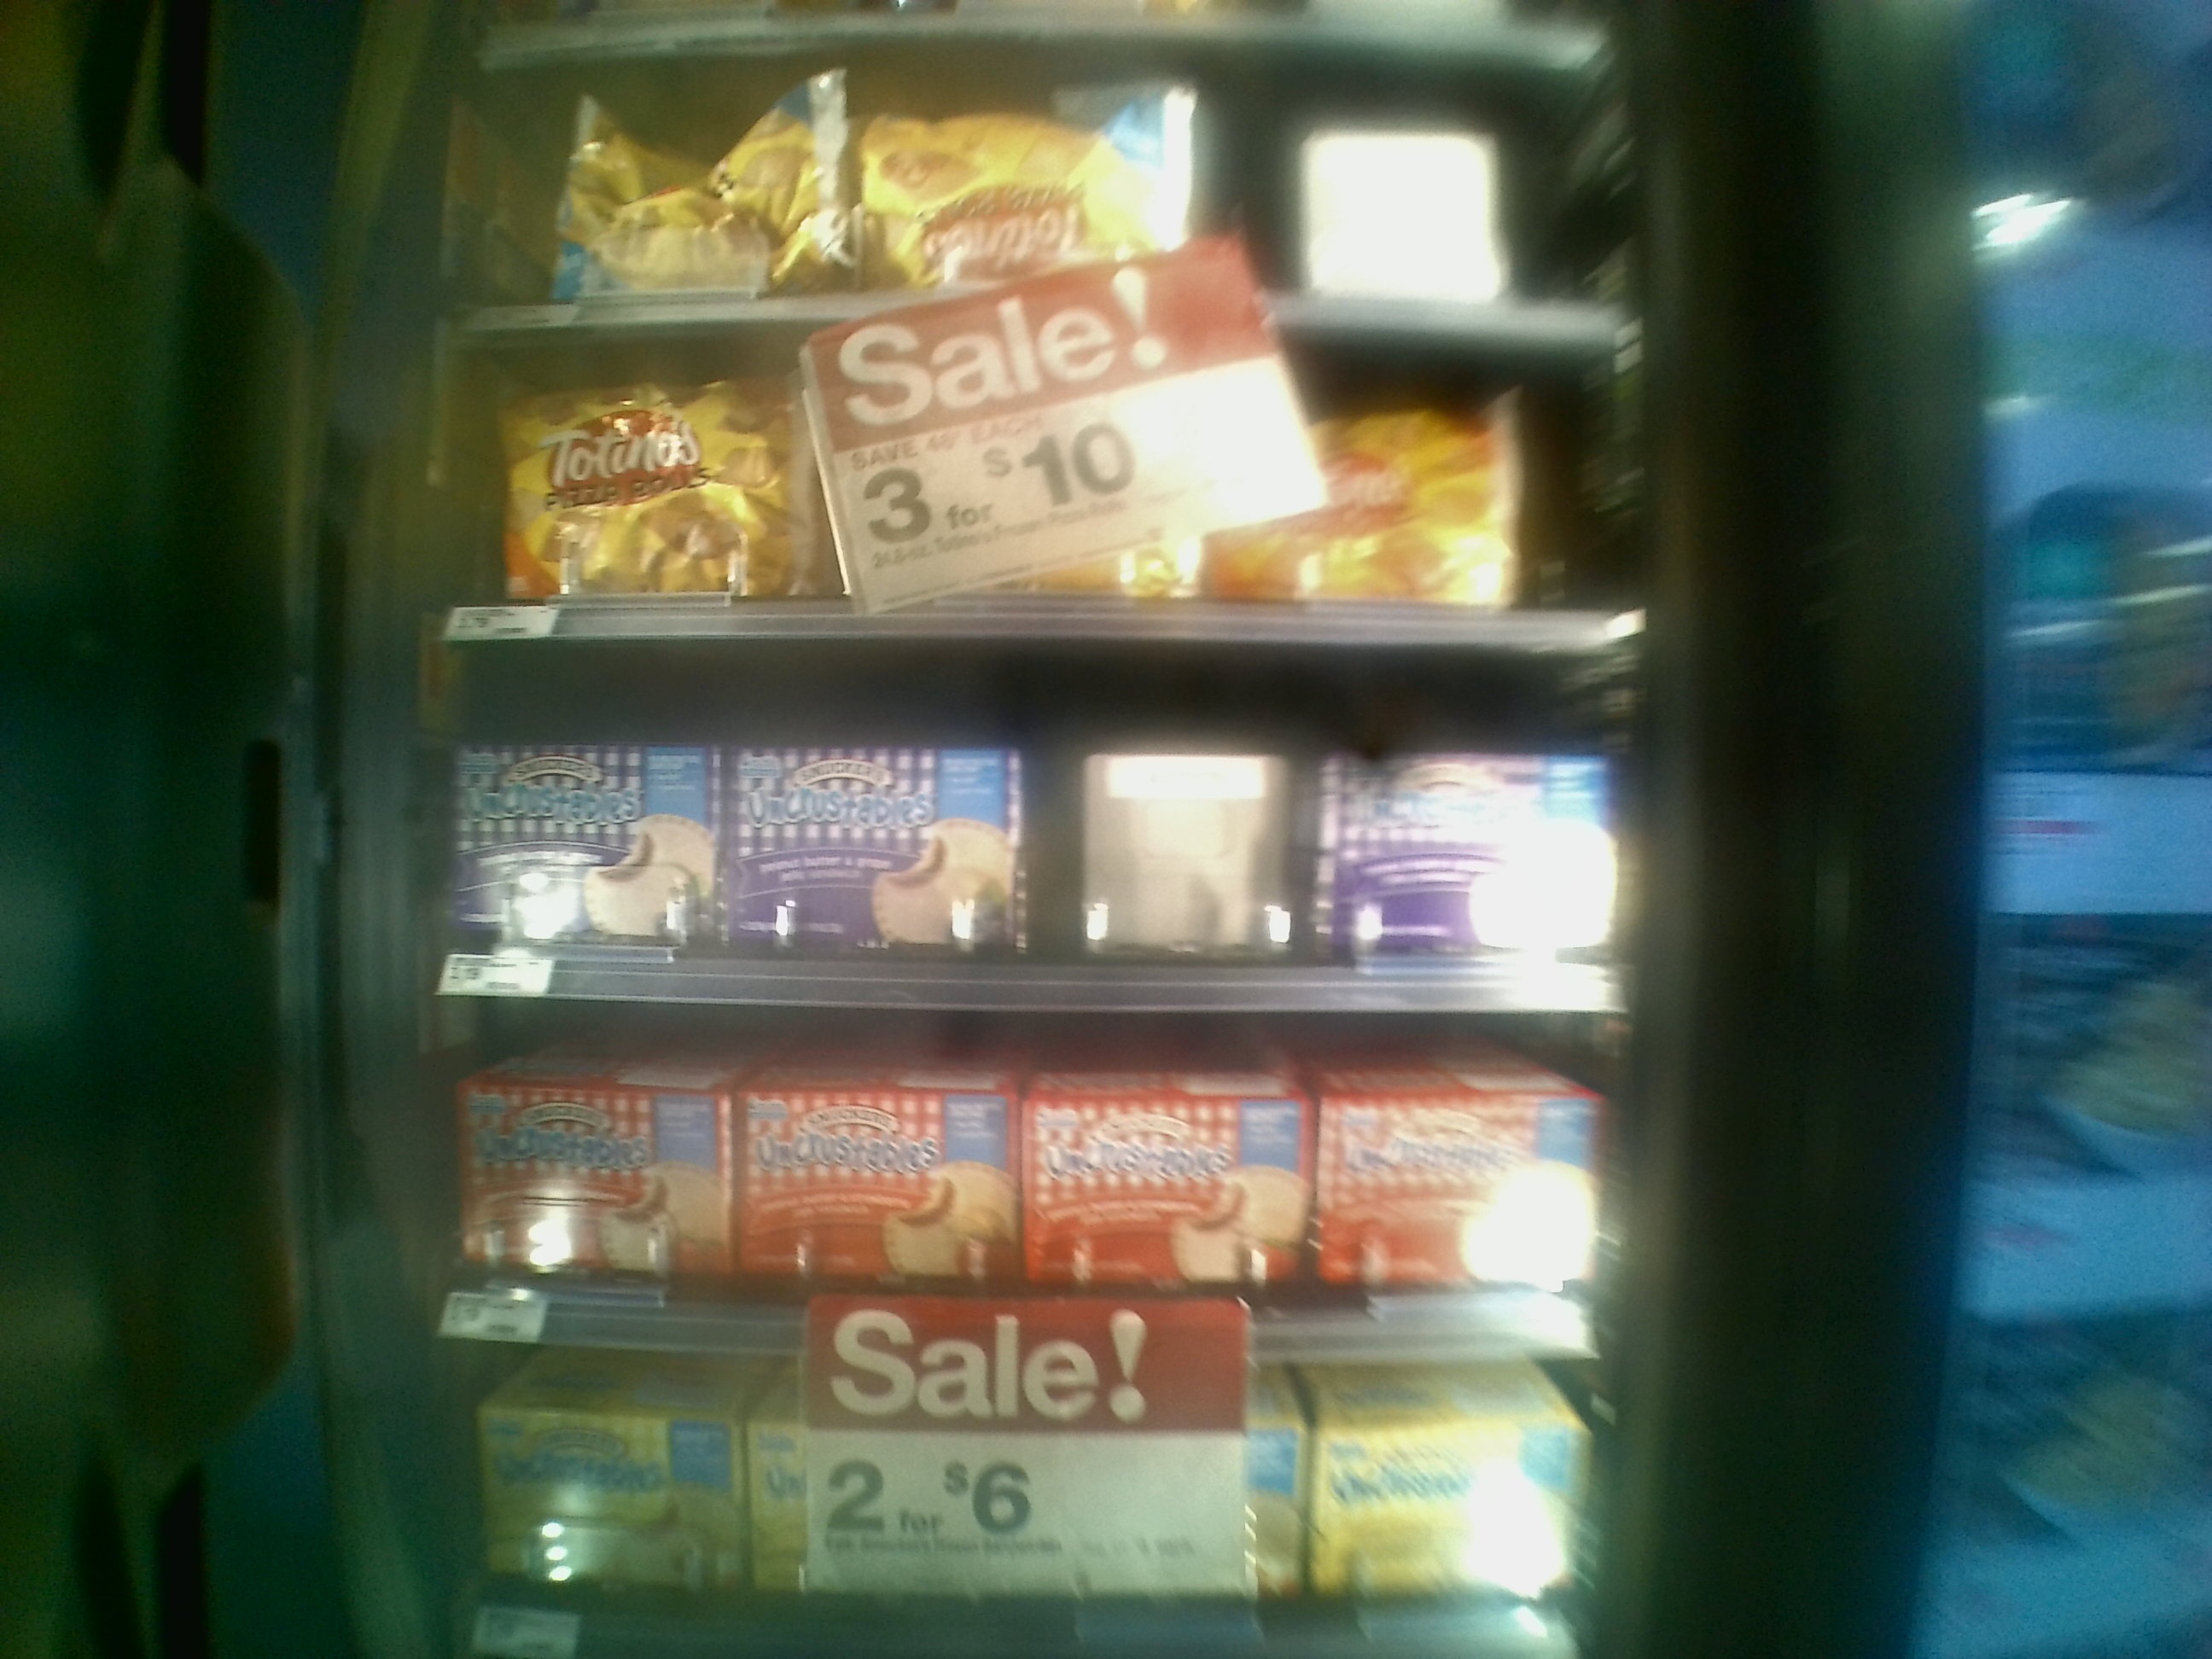shelf: (427, 645, 1622, 1019), (409, 1006, 1622, 1361), (435, 331, 1646, 655), (449, 54, 1634, 352)
